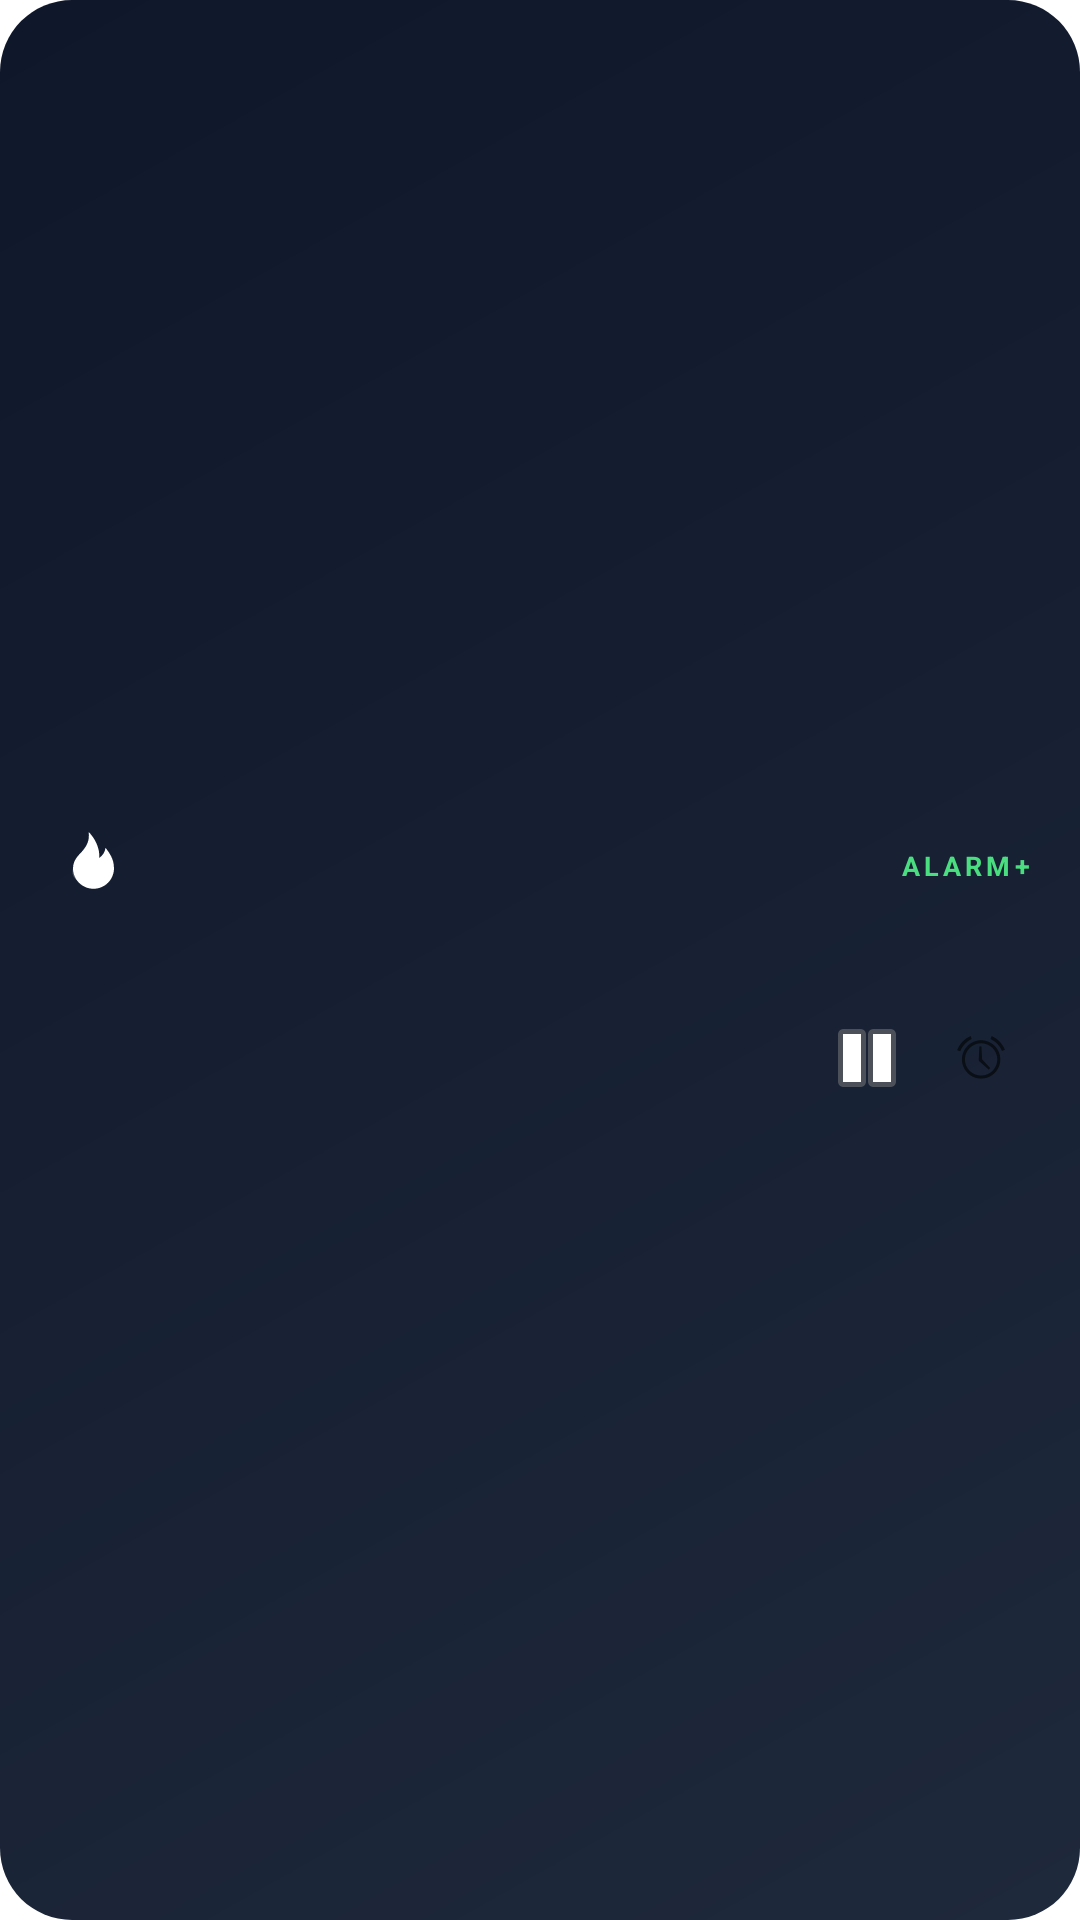

Named icons in this screenshot (1080w x 1920h) and their centers, (x,y):
flame: (93,860)
